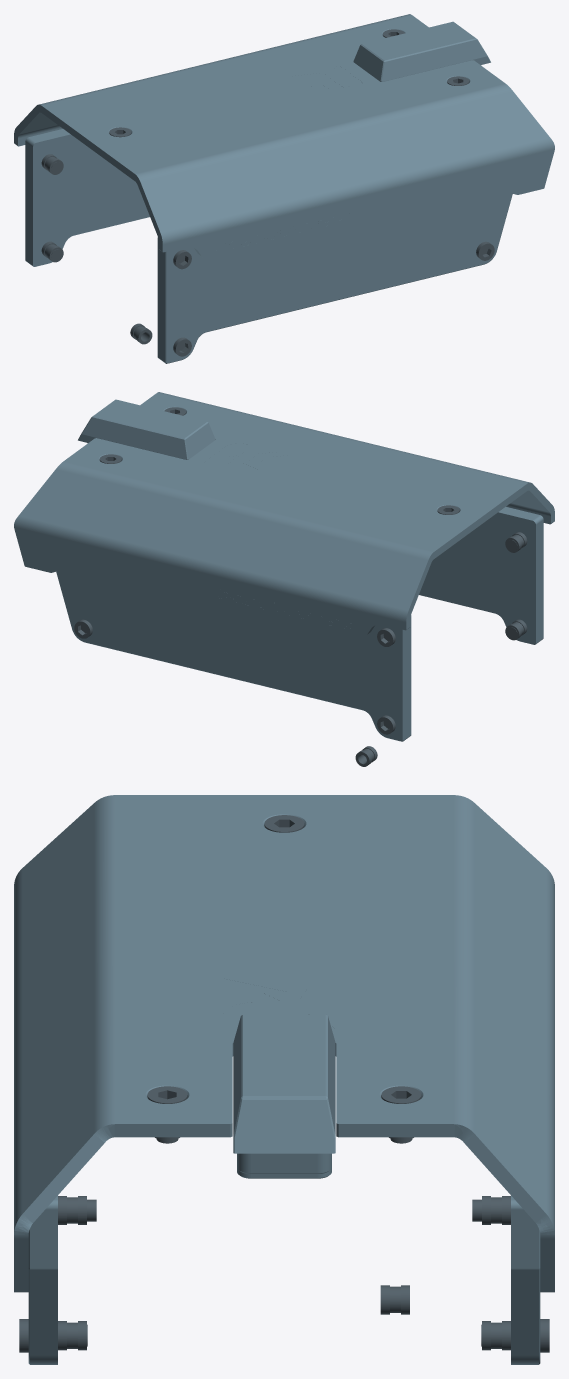
The picture shows the model from 3 angles, top to bottom: view 1: azimuth 30°, elevation 25°; view 2: azimuth 150°, elevation 25°; view 3: azimuth 270°, elevation 25°; orthographic projection. The views are drawn at different scales.
Parts seen in each view (by area): view 1: SM11_0, SM11_3, SM11_2, SM11_1; view 2: SM11_0, SM11_2, SM11_3, SM11_1; view 3: SM11_0, SM11_1, SM11_2, SM11_3, SM11_15, SM11_4, SM11_9, SM11_5, SM11_8.
Boxes of the visible parts, <box> form: SM11_0: <box>14,14,554,259</box>; SM11_3: <box>157,189,512,363</box>; SM11_2: <box>25,129,149,266</box>; SM11_1: <box>353,21,490,81</box>; SM11_0: <box>14,392,554,637</box>; SM11_2: <box>56,567,411,741</box>; SM11_3: <box>419,507,543,644</box>; SM11_1: <box>78,399,215,459</box>; SM11_0: <box>14,795,554,1292</box>; SM11_1: <box>233,1014,335,1178</box>; SM11_2: <box>511,1196,540,1364</box>; SM11_3: <box>28,1196,57,1364</box>; SM11_15: <box>380,1285,409,1314</box>; SM11_4: <box>482,1321,510,1350</box>; SM11_9: <box>58,1321,86,1350</box>; SM11_5: <box>482,1196,510,1224</box>; SM11_8: <box>58,1196,86,1224</box>.
Size of the model in its own units: 113 by 72 by 74.
